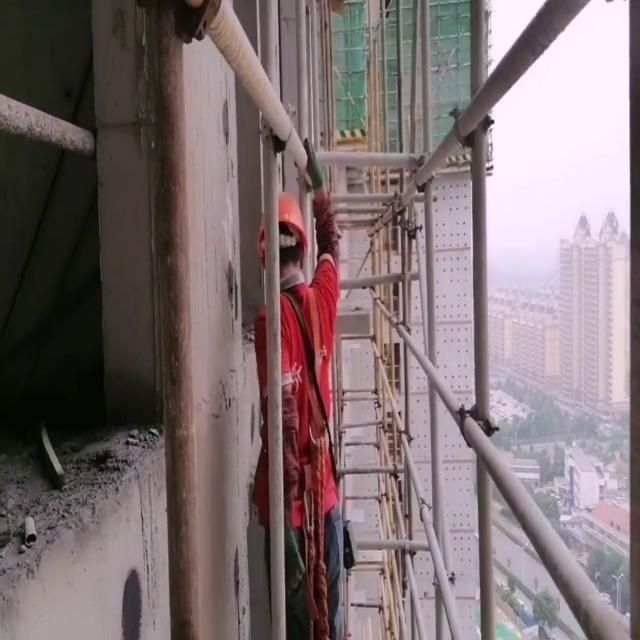Arnes_seguridad: (264, 278, 336, 505)
